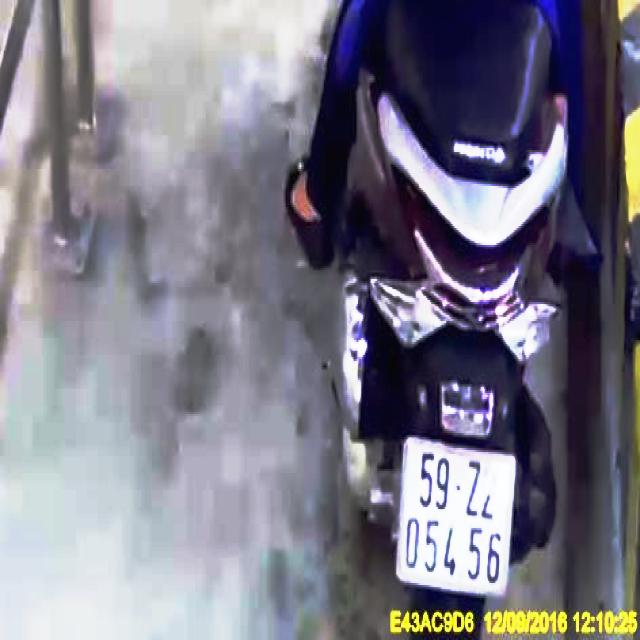license_plate: (402, 437, 515, 596)
